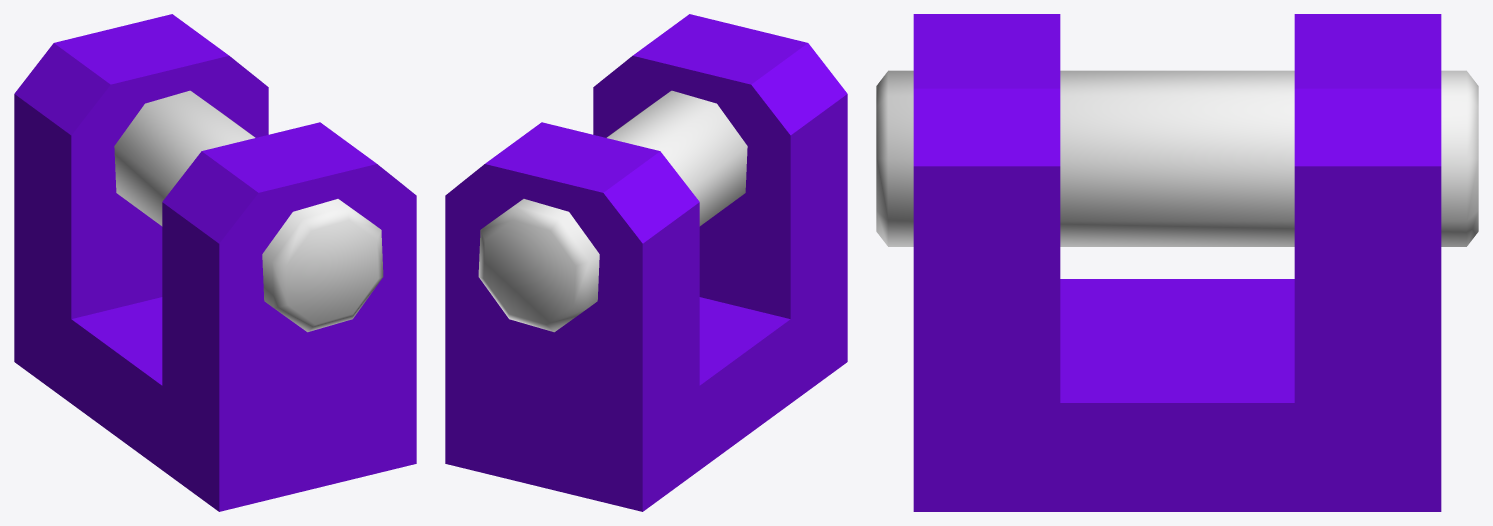
The model's file is Ground_Hammer_Socket_03.fbx.
3 views of the same model, side by side, from view 1: azimuth 30°, elevation 25°; view 2: azimuth 150°, elevation 25°; view 3: azimuth 270°, elevation 25° (orthographic). The views are drawn at different scales.
Visible parts, largest first — view 1: Obstacle_Ground_Hammer_Socket_03; view 2: Obstacle_Ground_Hammer_Socket_03; view 3: Obstacle_Ground_Hammer_Socket_03.
Boxes of the visible parts, box(x1,y1,x2,y2) form: Obstacle_Ground_Hammer_Socket_03: box(14, 14, 416, 511); Obstacle_Ground_Hammer_Socket_03: box(445, 14, 847, 511); Obstacle_Ground_Hammer_Socket_03: box(876, 14, 1478, 511).
Size of the model in its own units: 50 by 74.88 by 102.
Materials: 1 (1 with a texture image).
